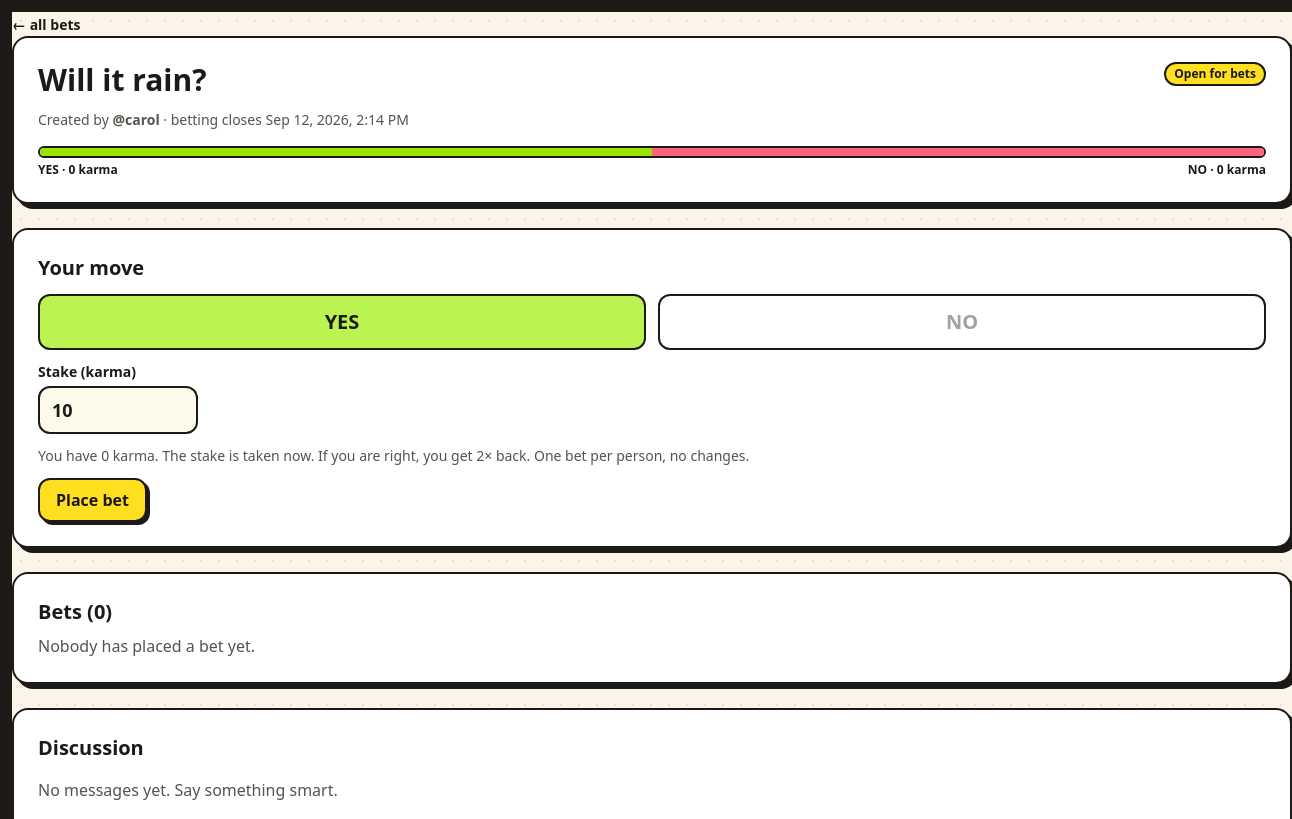
it: BetDetailPage › shows wager errors such as the karma floor
Click the button "Place bet". click: (92, 500)
box: [38,478,147,522]
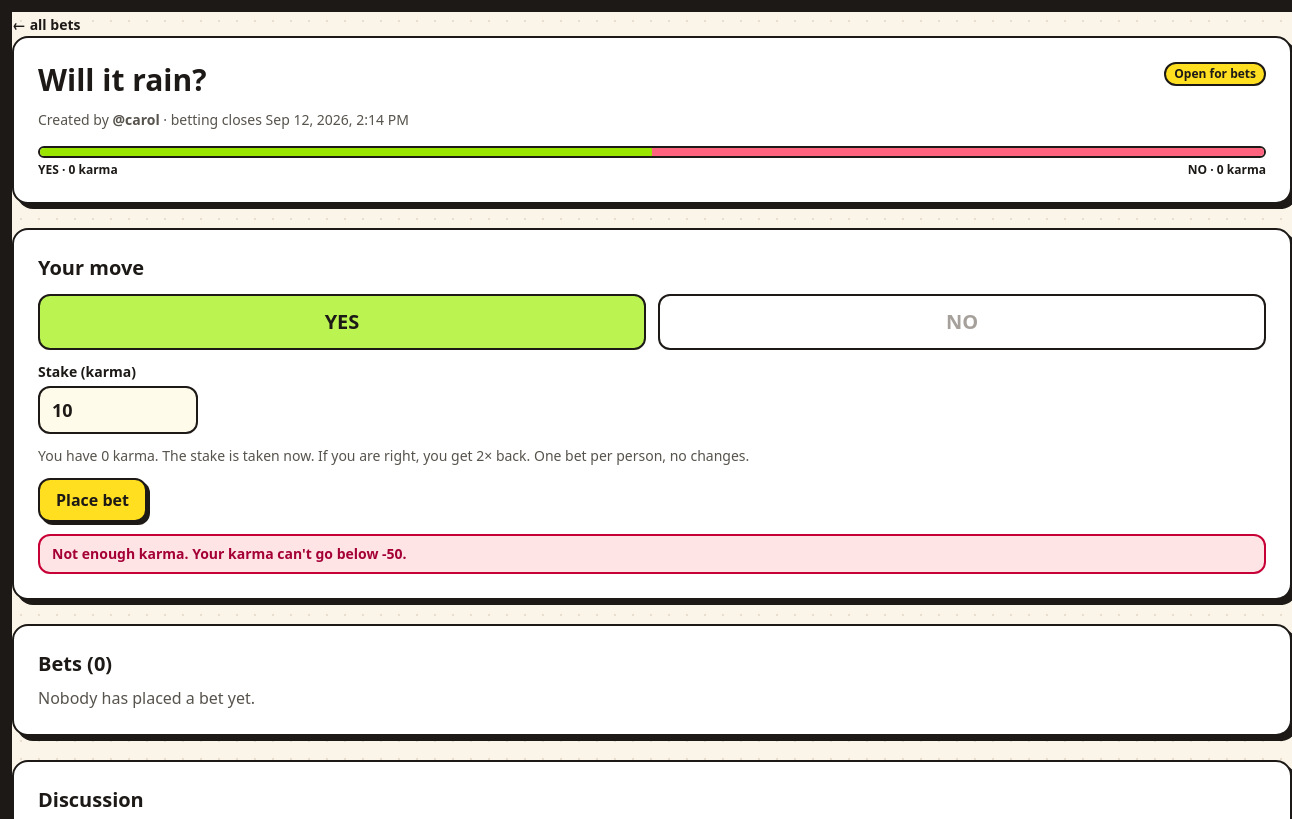
Expected: the message shows "Not enough karma.", [52,544,407,563]
